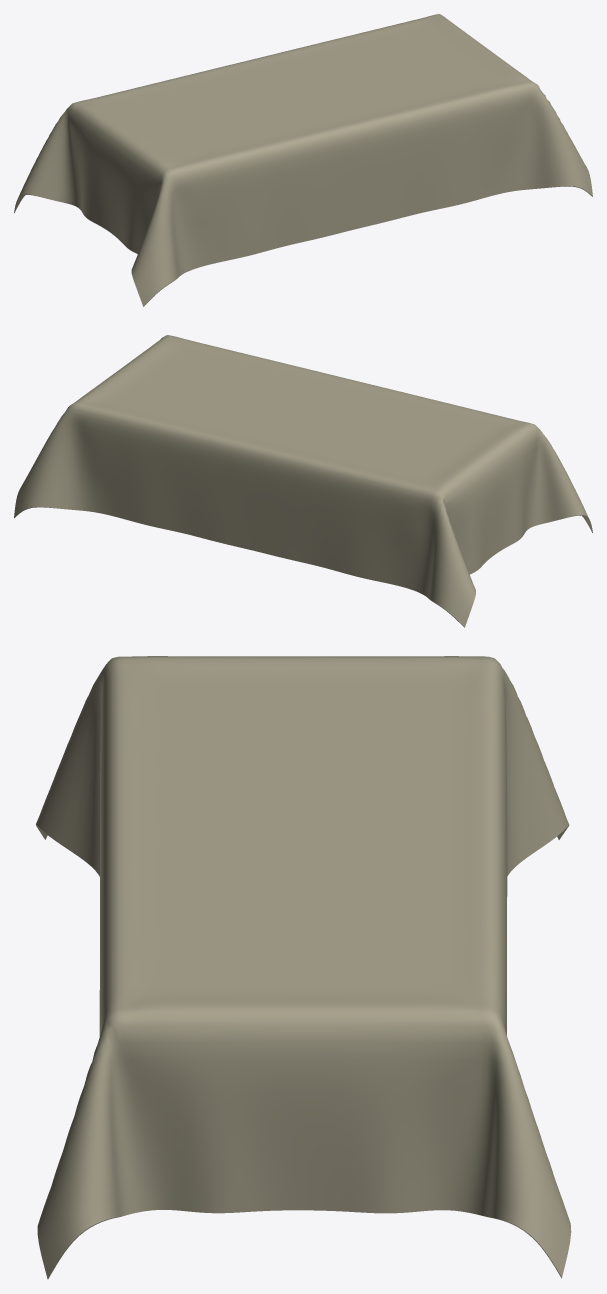
Rendered from sabana cubre mesa.fbx.
3 renders of one model, top to bottom at view 1: azimuth 30°, elevation 25°; view 2: azimuth 150°, elevation 25°; view 3: azimuth 270°, elevation 25°, orthographic. The views are drawn at different scales.
Visible parts, largest first — view 1: sabana; view 2: sabana; view 3: sabana.
Boxes of the visible parts, bbox=[...] form: sabana: bbox=[14, 14, 592, 306]; sabana: bbox=[14, 335, 592, 627]; sabana: bbox=[36, 656, 571, 1279].
Bounding box in the file's own units: 20.36 × 4.86 × 10.38.
